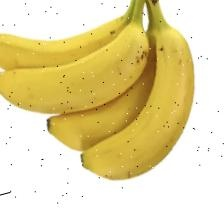banana: (14, 58, 200, 196)
